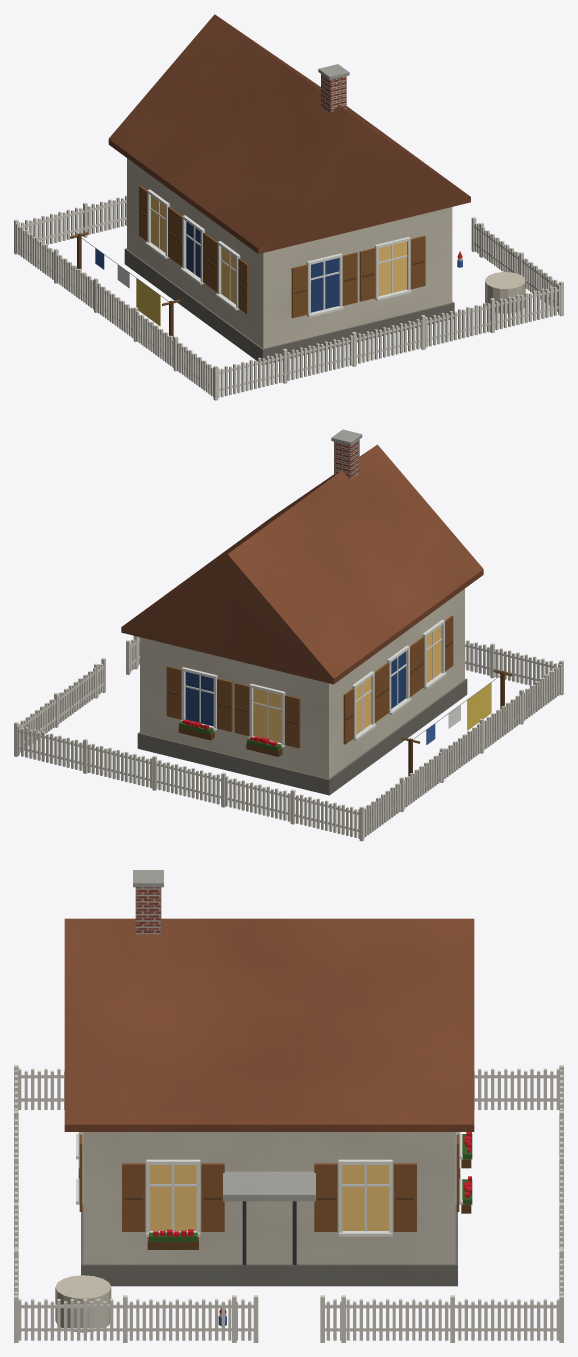
File: dum_18_stare_1.glb
3 views of the same model, one above another, from view 1: azimuth 30°, elevation 25°; view 2: azimuth 150°, elevation 25°; view 3: azimuth 270°, elevation 25° (orthographic). The views are drawn at different scales.
Visible parts, largest first — view 1: dum, noc; view 2: dum, noc; view 3: dum, noc.
Boxes of the visible parts, box(x1,y1,x2,y2) form: dum: box(14, 14, 563, 400); noc: box(151, 195, 406, 304); dum: box(14, 429, 563, 841); noc: box(253, 626, 441, 742); dum: box(14, 870, 563, 1342); noc: box(150, 1165, 388, 1230).
Bounding box in the file's own units: 11.8 × 8.18 × 11.79.
1 material, 1 textured.
